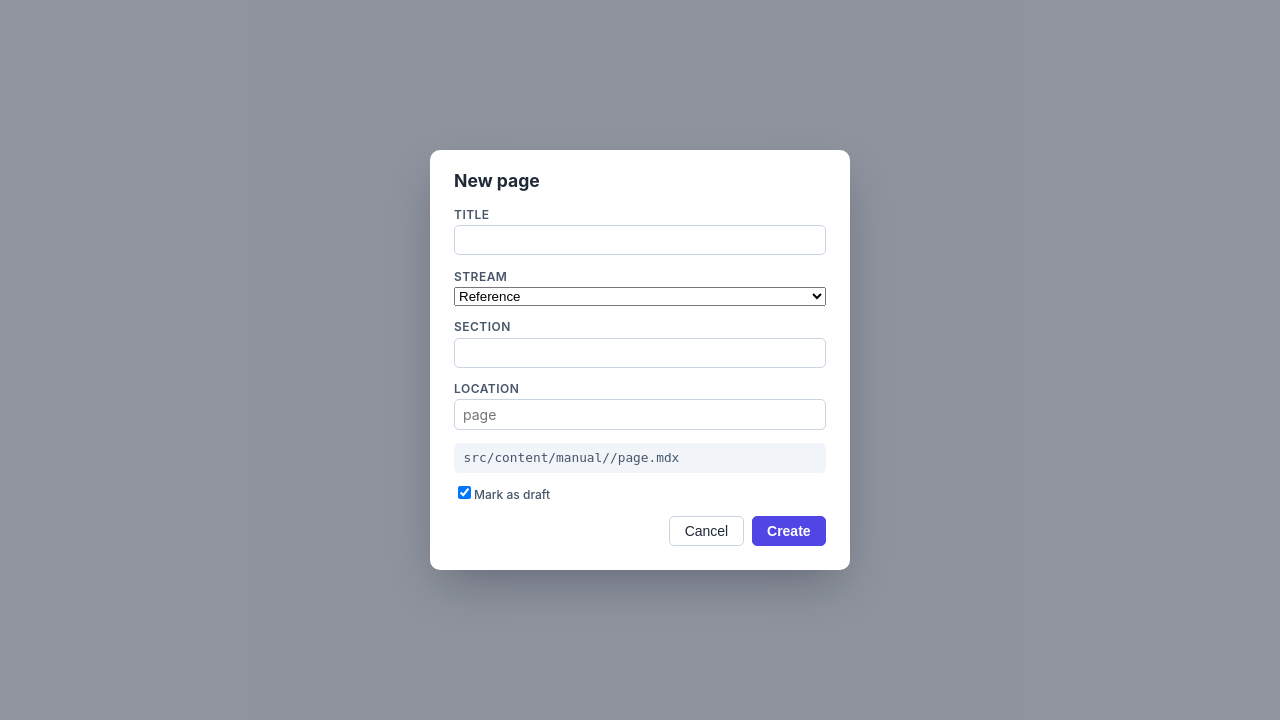
the path preview updates as the title (and section) change
Type "Basics" into the field labelled "Section" at {"x": 640, "y": 353}, box [454, 338, 826, 368]
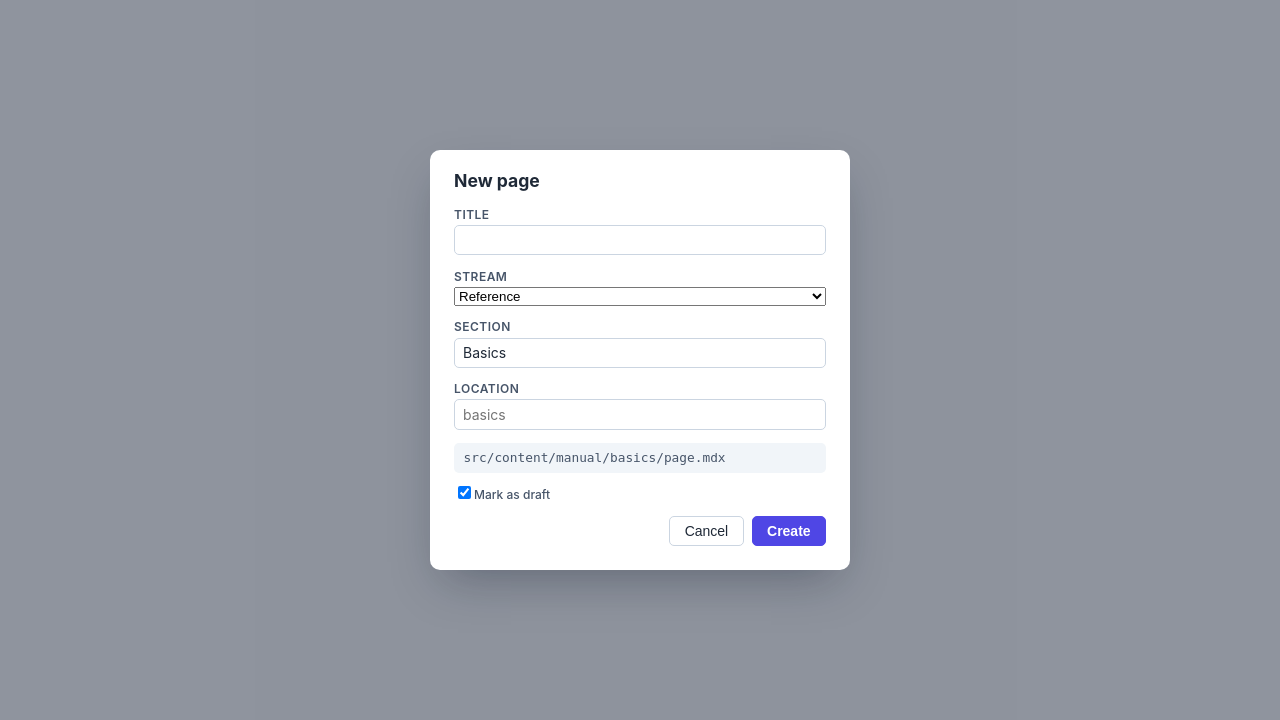
Type "My New Page" into the field labelled "Title" at {"x": 640, "y": 240}, box [454, 225, 826, 255]
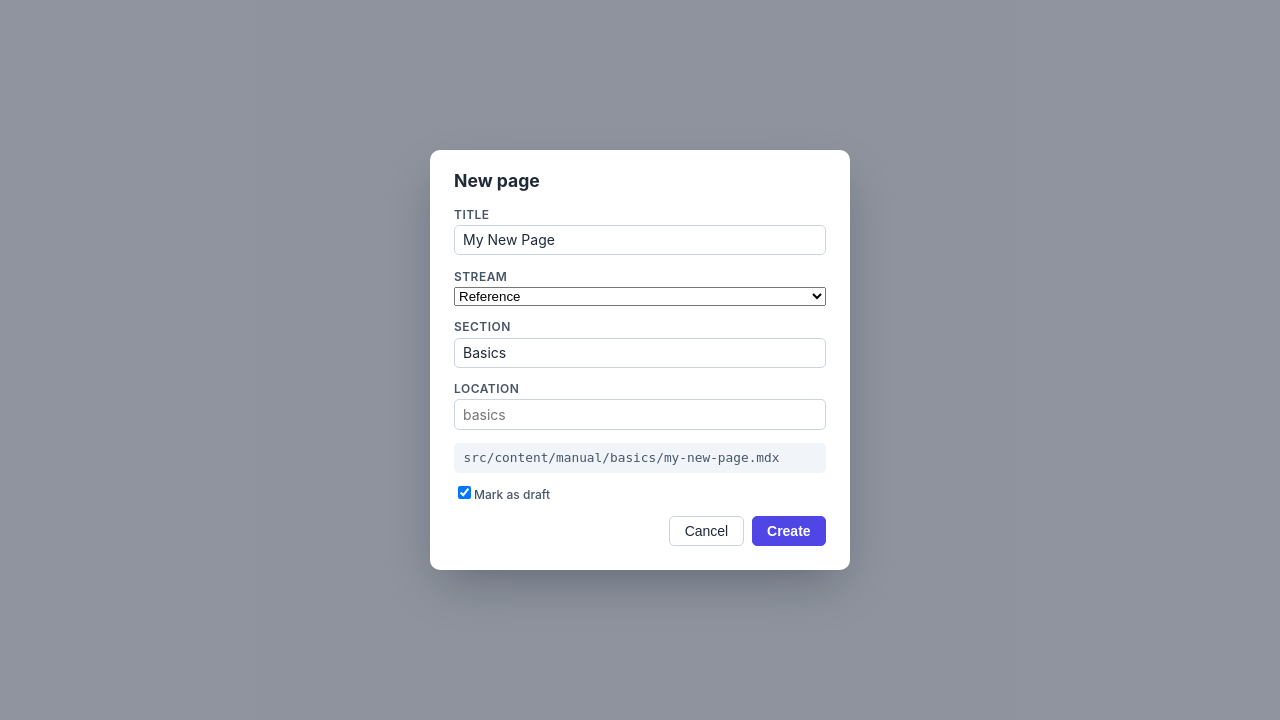
Check: the text with test id "new-page-path-preview" reads "src/content/manual/basics/my-new-page.mdx", box [464, 450, 780, 466]
Replace the text in the field labelled "Title" with "Another Page" at {"x": 640, "y": 240}, box [454, 225, 826, 255]
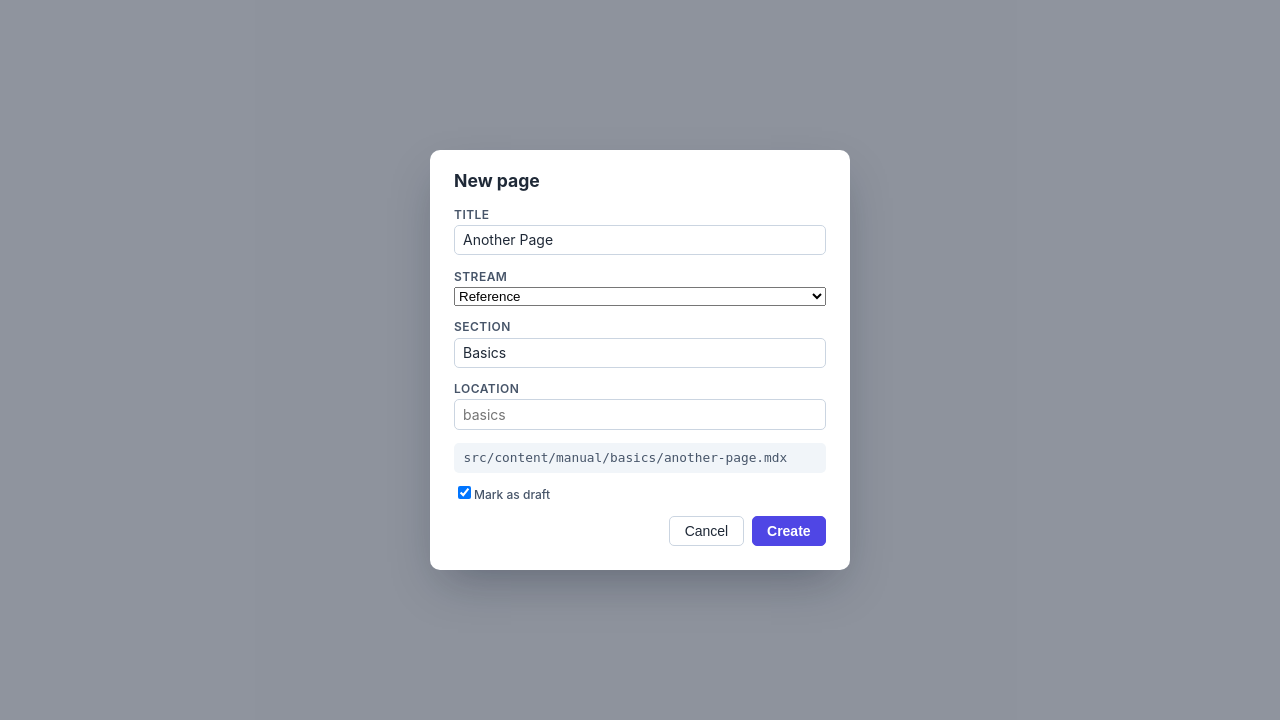
Check: the text with test id "new-page-path-preview" reads "src/content/manual/basics/another-page.mdx", box [464, 450, 787, 466]
